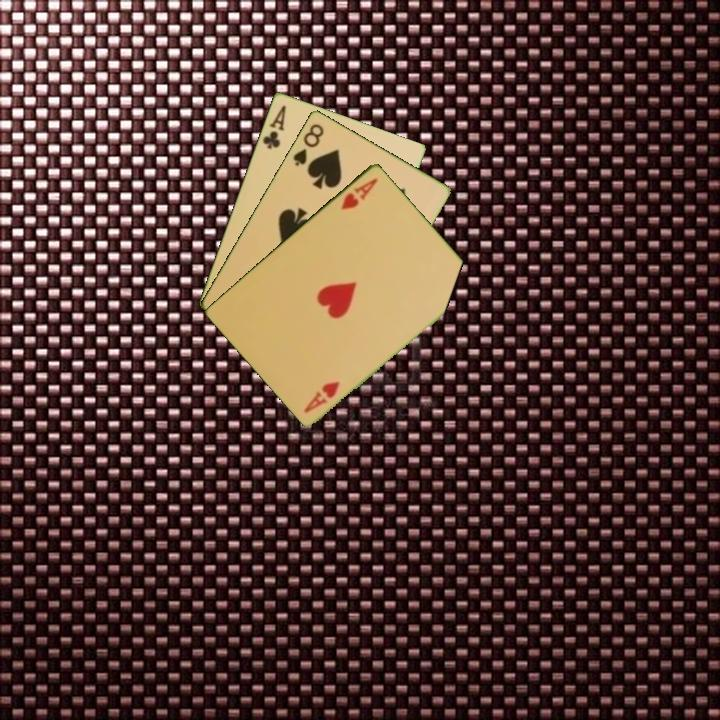8s: (289, 120, 327, 169)
Ac: (259, 101, 289, 151)
Ah: (337, 174, 381, 213), (300, 377, 343, 416)
